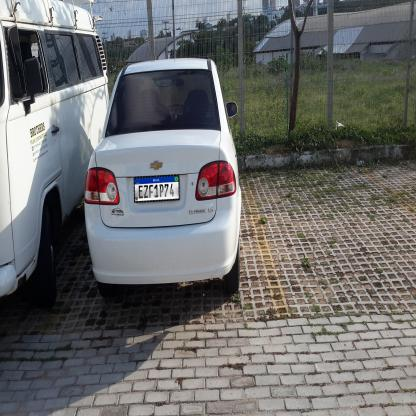PlacaM: (134, 174, 180, 203)
